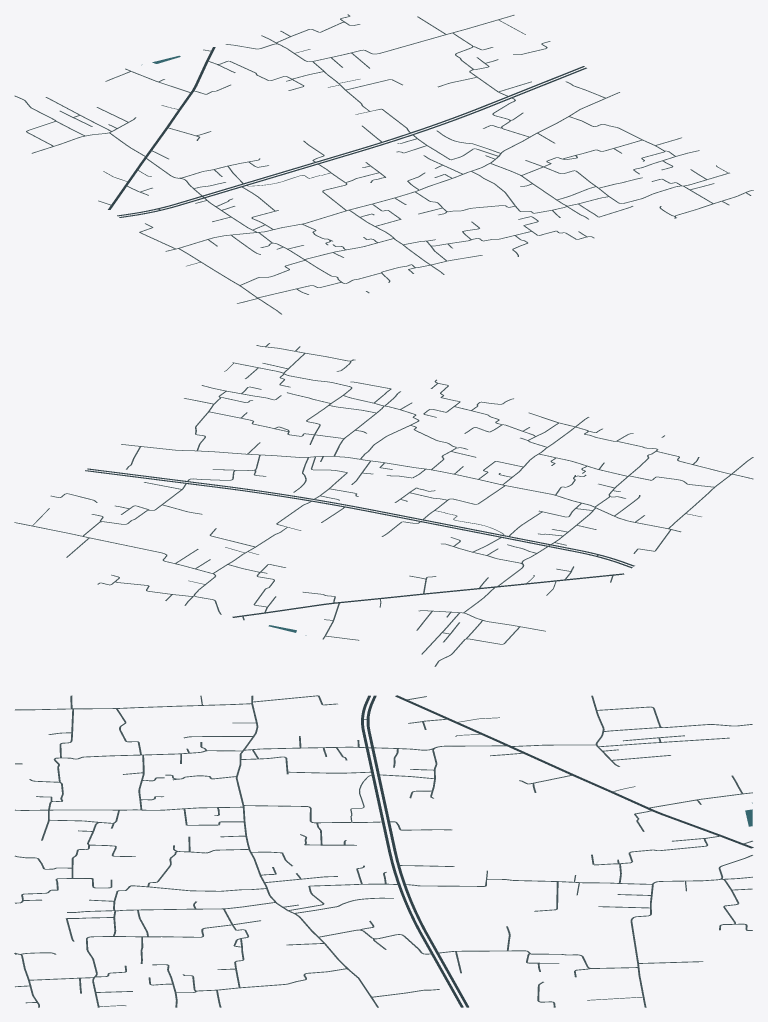
The picture shows the model from 3 angles, top to bottom: view 1: azimuth 30°, elevation 25°; view 2: azimuth 150°, elevation 25°; view 3: azimuth 270°, elevation 25°; orthographic projection. The views are drawn at different scales.
Parts seen in each view (by area): view 1: street, major; view 2: street, major; view 3: street, major.
Boxes of the visible parts, box(x1,y1,x2,y2) form: street: box(14, 14, 753, 314); major: box(108, 47, 586, 217); street: box(14, 343, 753, 666); major: box(85, 468, 634, 617); street: box(14, 695, 752, 1007); major: box(361, 695, 753, 1007).
Bounding box in the file's own units: 2004 × 0.42 × 2005.
